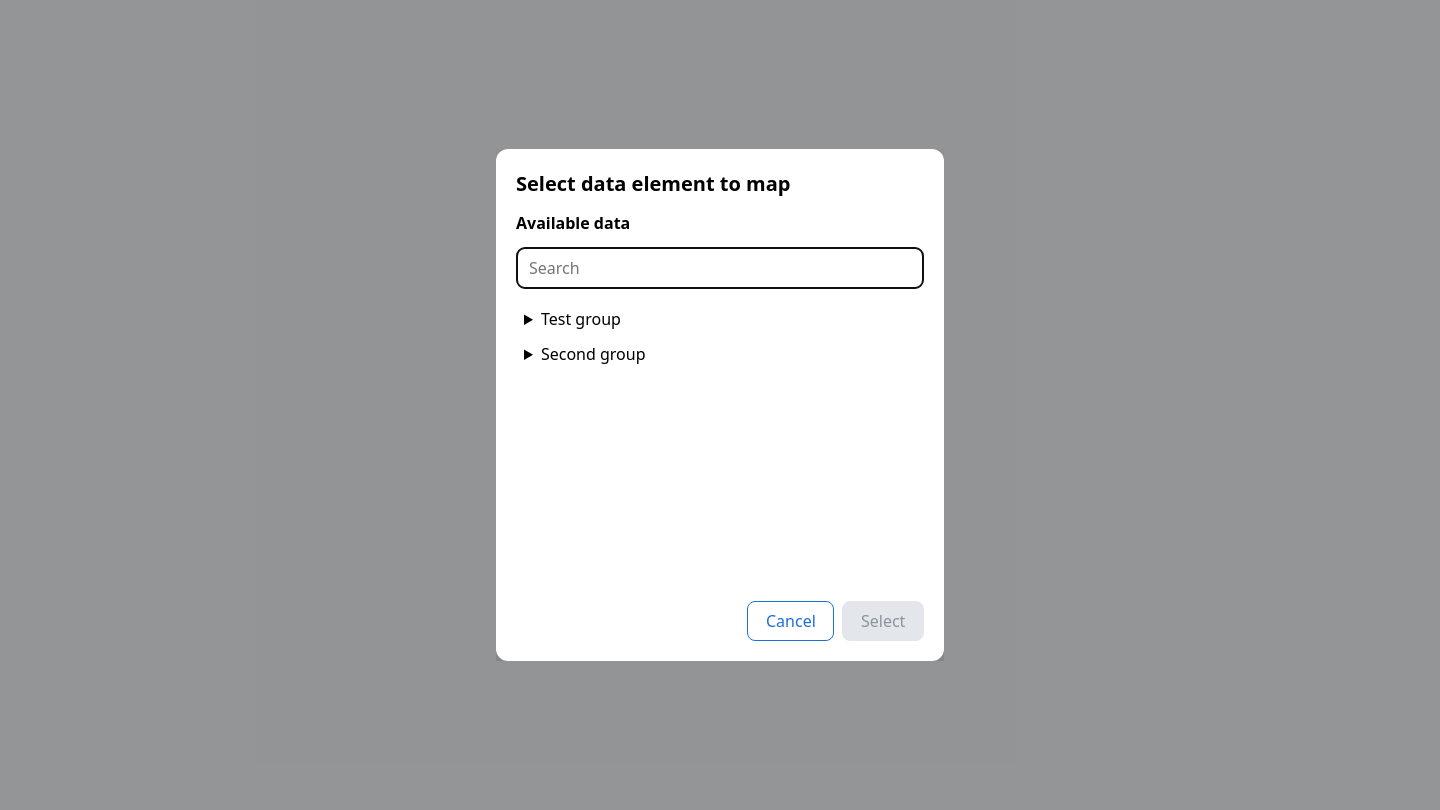
Scenario: DataElementModal › shows only matching dataGroups, expanded, when query is typed
Type "second" into the search field named "Search data elements" at (720, 268), box x1=516 y1=247 x2=924 y2=289
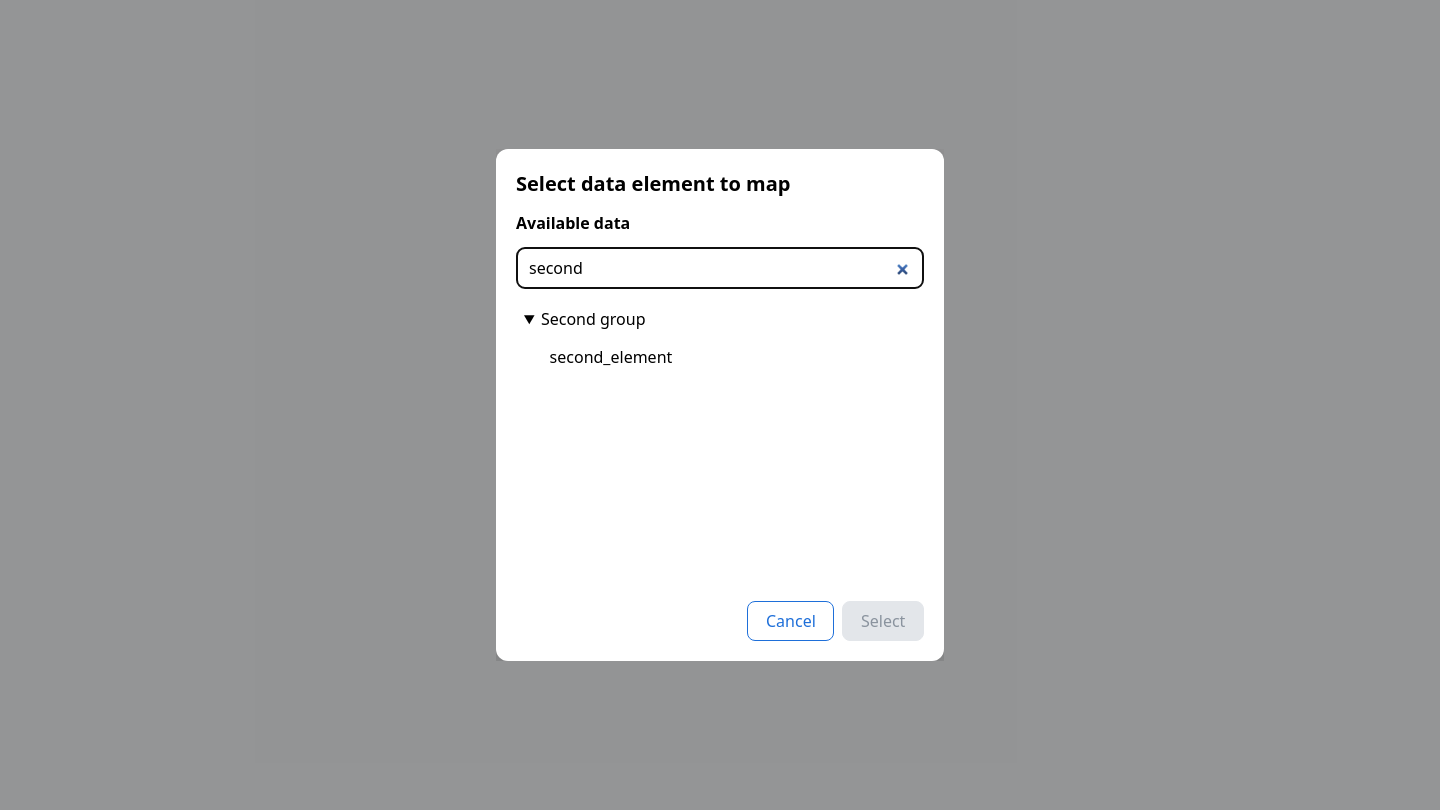
Expected: the heading "Test group" is gone
Expected: the button "second_element" is shown, x1=540 y1=340 x2=924 y2=374
